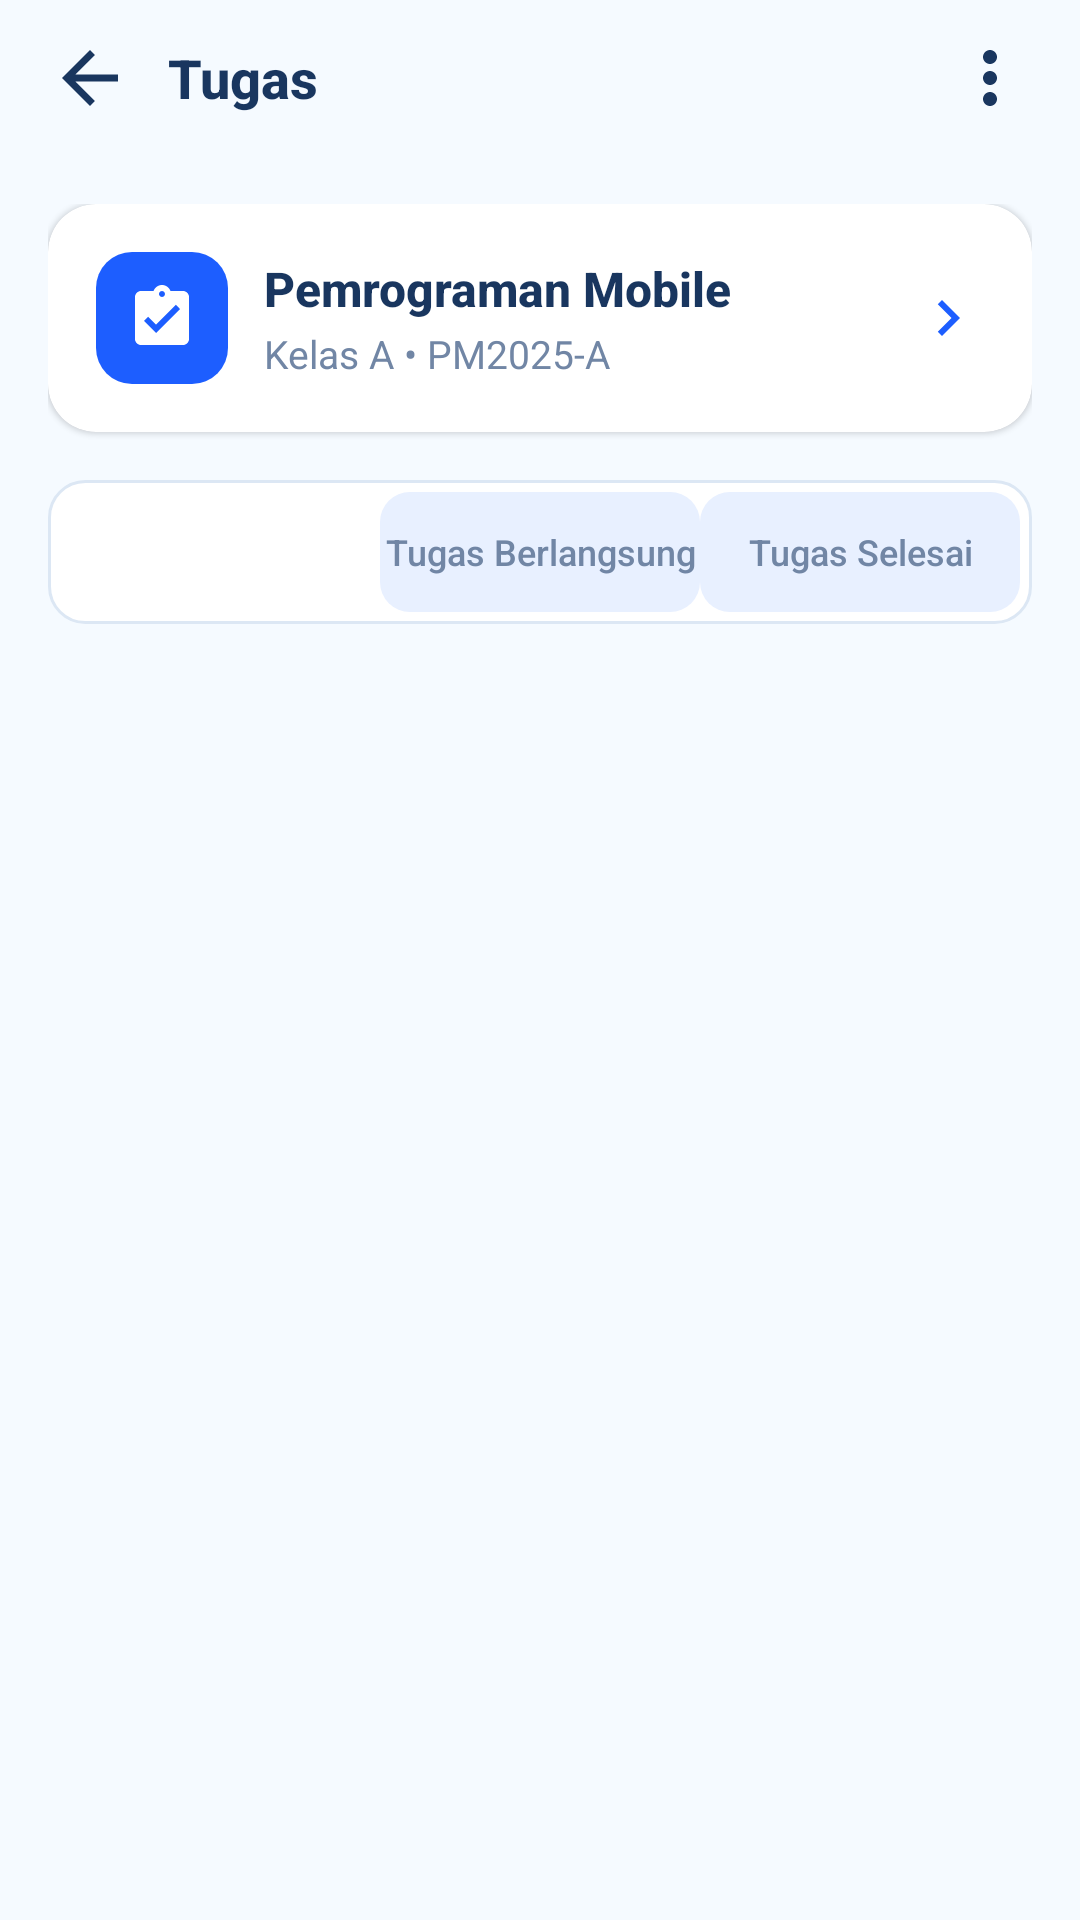

Icons on this 1080px×1920px Android screen, each with its box as (x1, y1, x2, y2):
assignment check: (135, 285, 189, 345)
back: (62, 50, 118, 106)
chevron right: (938, 300, 960, 336)
more vert: (983, 50, 997, 106)
